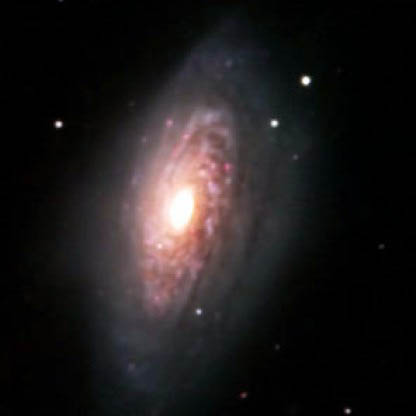NGC 3521: (40, 20, 325, 398)
